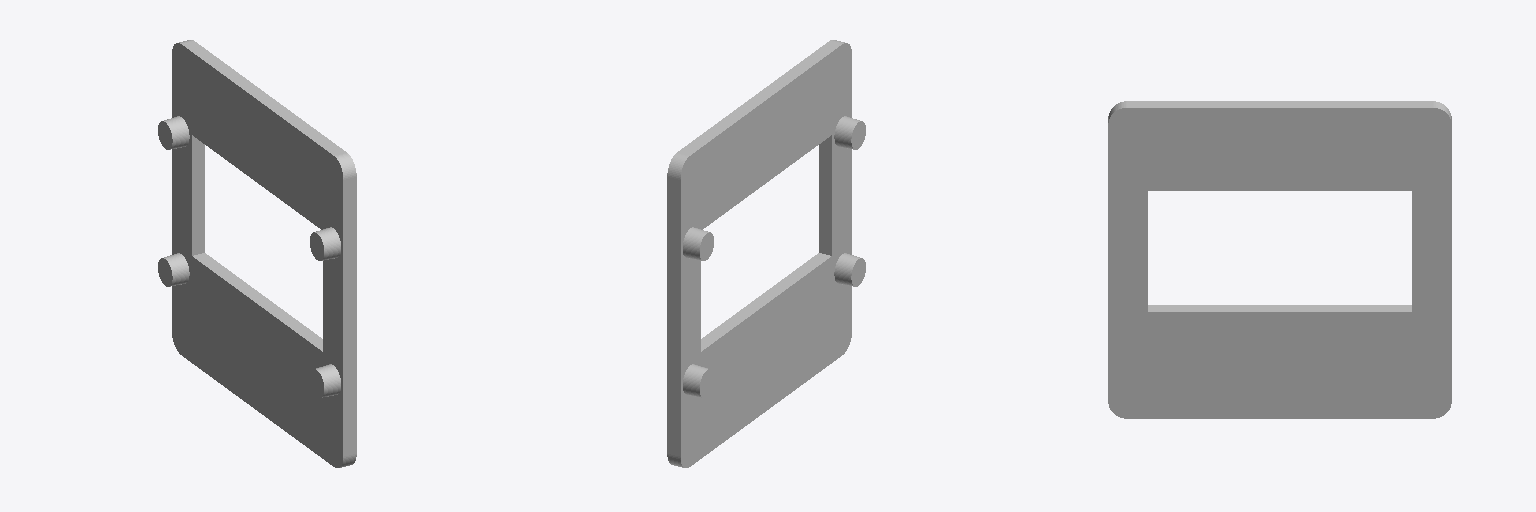
Rendered from V5_Outer Cover Side Open.obj.
3 renders of one model, left to right at view 1: azimuth 30°, elevation 25°; view 2: azimuth 150°, elevation 25°; view 3: azimuth 270°, elevation 25°, orthographic.
Parts seen in each view (by area): view 1: Solid1:49; view 2: Solid1:49; view 3: Solid1:49.
Boxes of the visible parts, box(x1,y1,x2,y2) form: Solid1:49: box(158, 40, 356, 467); Solid1:49: box(667, 40, 865, 467); Solid1:49: box(1108, 101, 1451, 418).
Bounding box in the file's own units: 4.5 × 45 × 45.